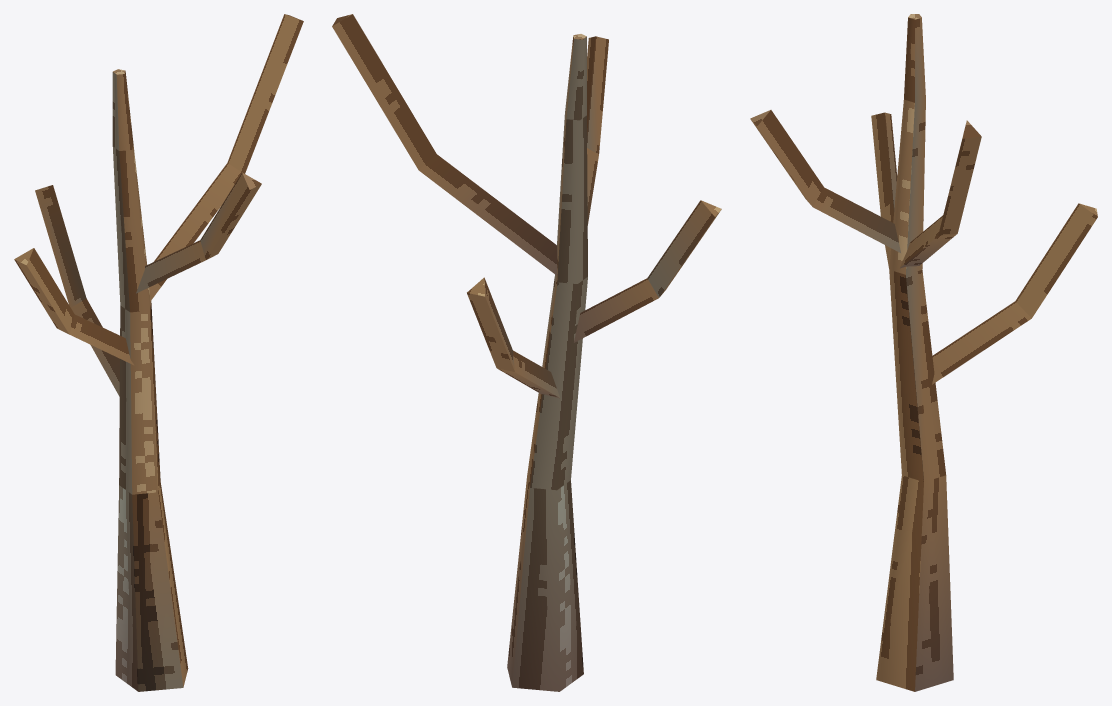
The model's file is wland.dead_tree.glb.
3 renders of one model, left to right at view 1: azimuth 30°, elevation 25°; view 2: azimuth 150°, elevation 25°; view 3: azimuth 270°, elevation 25°, orthographic. The views are drawn at different scales.
Visible parts, largest first — view 1: kit_trunk, kit_branches; view 2: kit_trunk, kit_branches; view 3: kit_trunk, kit_branches.
Boxes of the visible parts, <box> form: kit_trunk: <box>112,69,188,691</box>; kit_branches: <box>14,14,303,396</box>; kit_trunk: <box>507,34,587,691</box>; kit_branches: <box>332,14,721,398</box>; kit_trunk: <box>876,14,953,691</box>; kit_branches: <box>750,110,1097,384</box>.
Size of the model in its own units: 2.14 by 3.88 by 1.91.
1 material, 1 textured.
